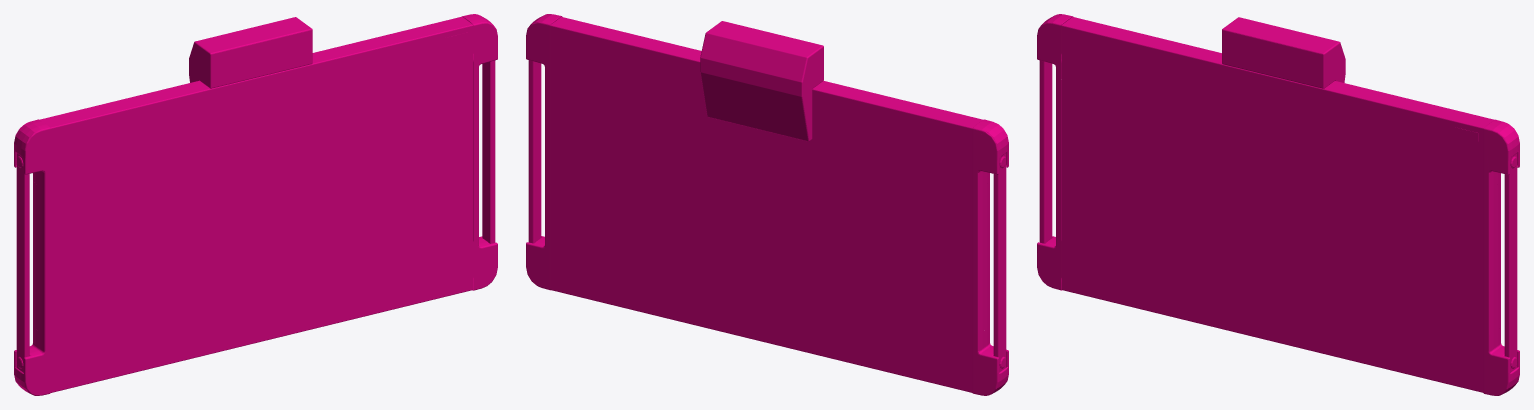
Rendered from BoomHead_LowerShelf.fbx.
3 views of the same model, side by side, from view 1: azimuth 30°, elevation 25°; view 2: azimuth 150°, elevation 25°; view 3: azimuth 330°, elevation 25° (orthographic).
Parts seen in each view (by area): view 1: BoomHead_LowerShelf; view 2: BoomHead_LowerShelf; view 3: BoomHead_LowerShelf.
Part boxes in pixels (box(x1,y1,x2,y2)): BoomHead_LowerShelf: box(14, 14, 497, 395); BoomHead_LowerShelf: box(526, 14, 1008, 395); BoomHead_LowerShelf: box(1037, 14, 1519, 395).
Bounding box in the file's own units: 84.06 × 51.15 × 6.94.
